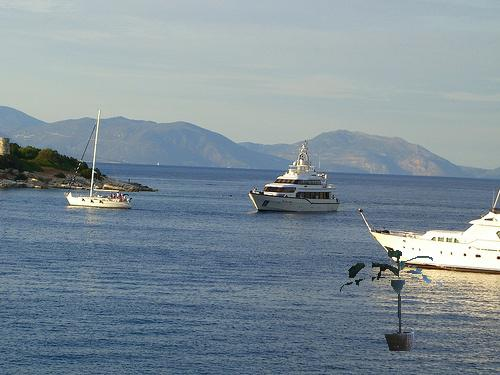tampered: (341, 251, 442, 351)
